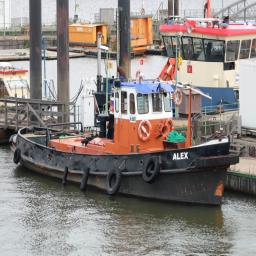tugboat: (9, 70, 241, 216)
